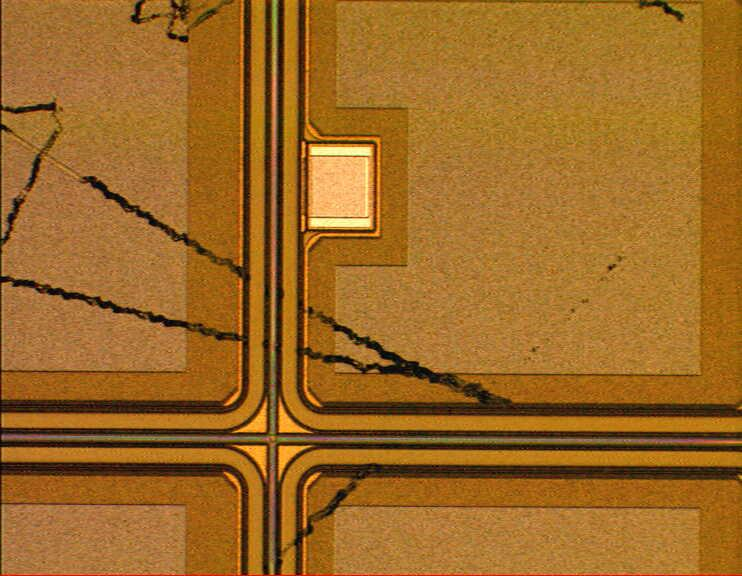SCRATCH: (1, 1, 697, 576)
